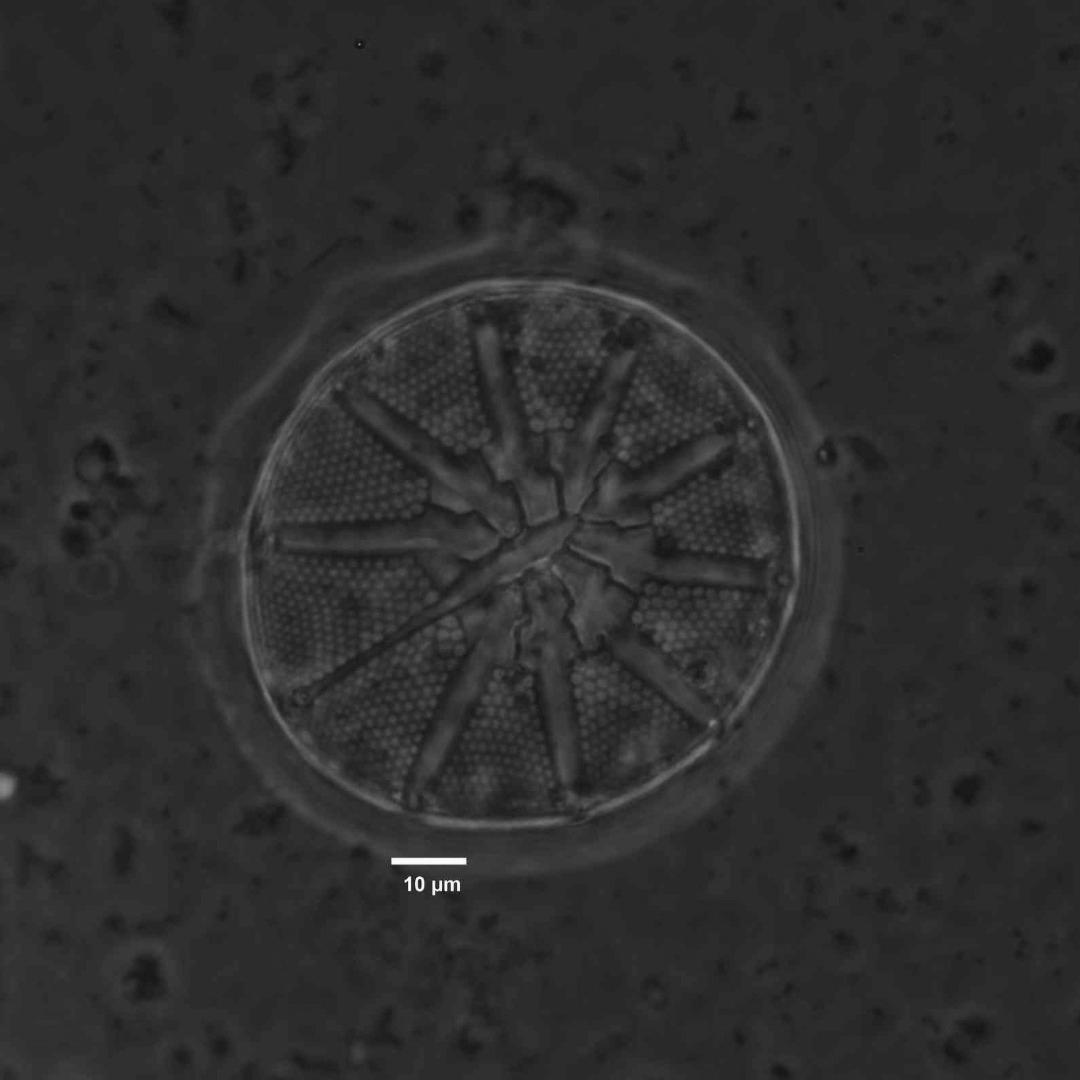asteromphalus_hyalinus: (246, 275, 794, 827)
